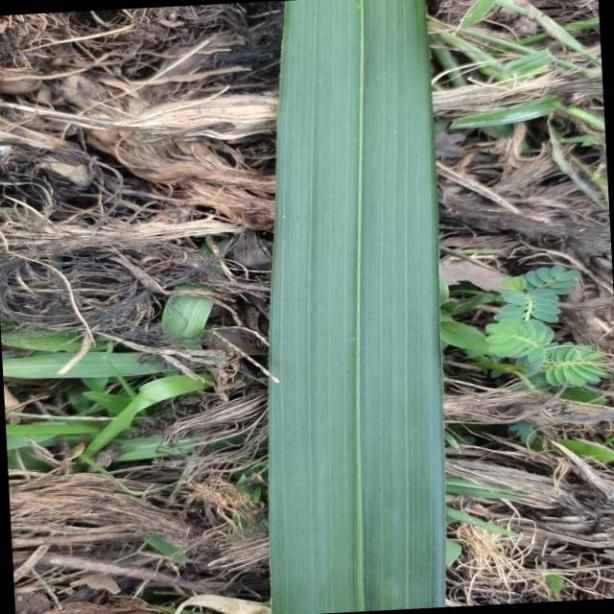Healthy: (270, 0, 446, 614)
